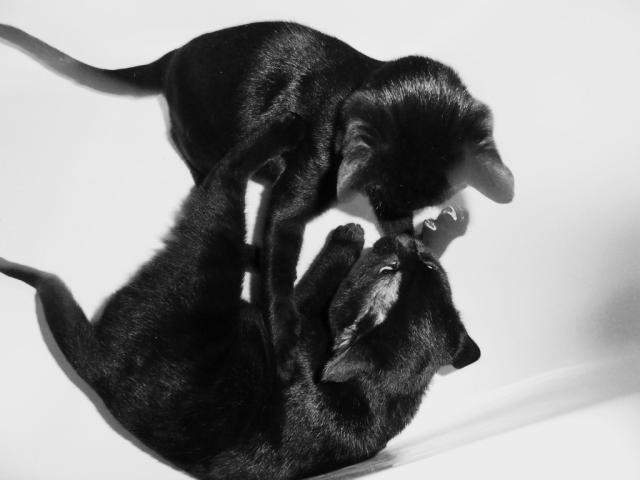Cat: (0, 114, 478, 479)
